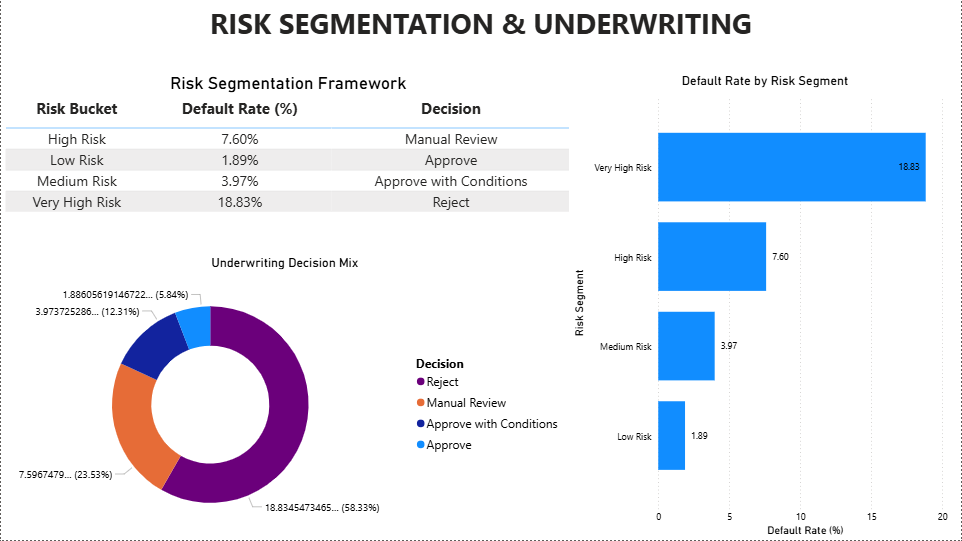

The dashboard page shown, as its layout file describes it:
{"tool":"powerbi","page":{"name":"Page 4","canvas":[1280,720],"ordinal":3},"visuals":[{"type":"textbox","box":[0,0,1280,65.7],"z":0},{"type":"tableEx","title":"Risk Segmentation Framework","fields":{"Values":["risk_segmentation.Risk_Bucket","risk_segmentation.Default_Rate_Pct","risk_segmentation.Decision"]},"box":[0,97.1,766,235],"z":1000},{"type":"clusteredBarChart","title":"Default Rate by Risk Segment","fields":{"Category":["risk_segmentation.Risk_Bucket"],"Y":["Sum(risk_segmentation.Default_Rate)"]},"box":[757.1,97.1,522.9,622.9],"z":2000},{"type":"donutChart","title":"Underwriting Decision Mix","fields":{"Category":["risk_segmentation.Decision"],"Y":["Sum(risk_segmentation.Default_Rate)"]},"box":[0,340,757.1,380],"z":3000}]}

Visuals, with their boxes in screenshot pixels (x1, y1, x2, y2), scaled from the page's 1280x720 canvas onto the 962x541 screenshot:
textbox: <region>0, 0, 961, 49</region>
"Risk Segmentation Framework" tableEx: <region>0, 73, 576, 250</region>
"Default Rate by Risk Segment" clusteredBarChart: <region>569, 73, 961, 540</region>
"Underwriting Decision Mix" donutChart: <region>0, 255, 569, 540</region>
